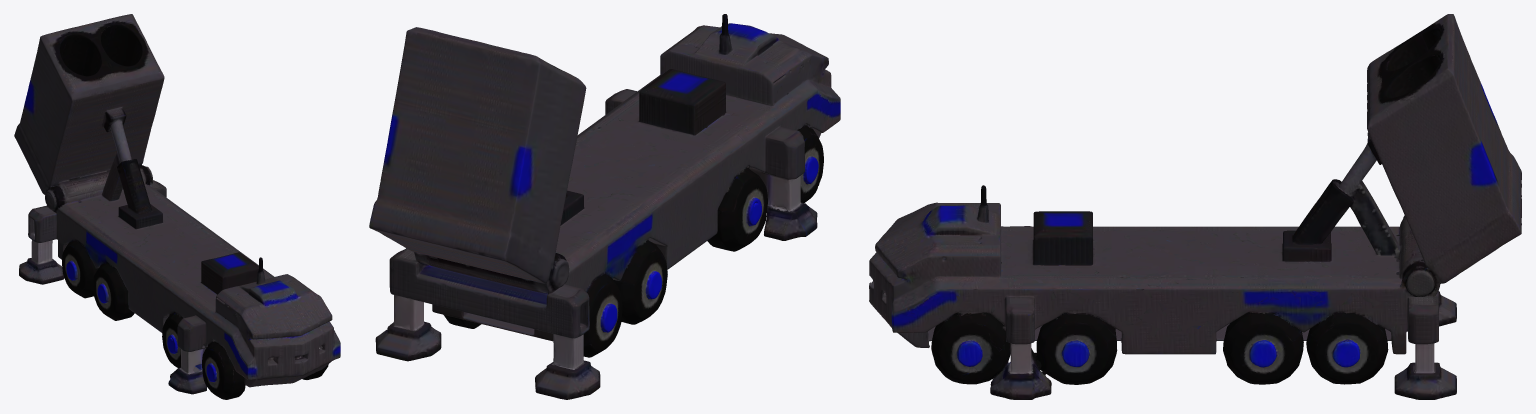
The model's file is 4_rocket_launcher.glb.
3 views of the same model, side by side, from view 1: azimuth 30°, elevation 25°; view 2: azimuth 150°, elevation 25°; view 3: azimuth 270°, elevation 25° (orthographic). The views are drawn at different scales.
Size of the model in its own units: 0.3559 by 0.5318 by 1.
Materials: 1 (1 with a texture image).
